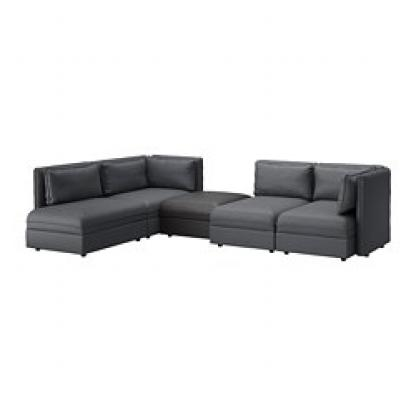Sofa: (15, 141, 396, 286)
